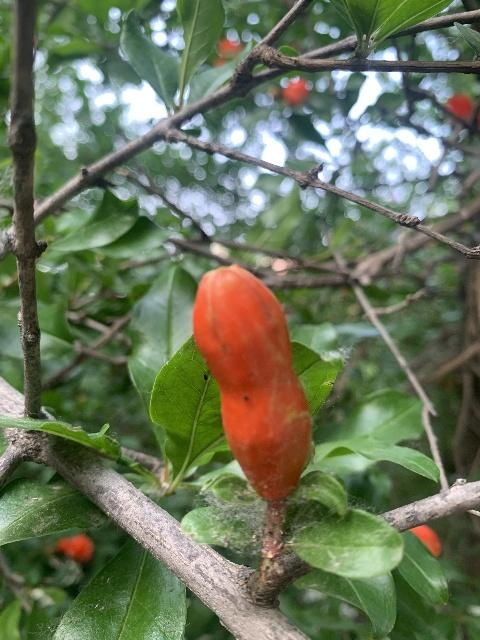bud: (192, 261, 311, 500)
flower: (56, 534, 94, 563)
